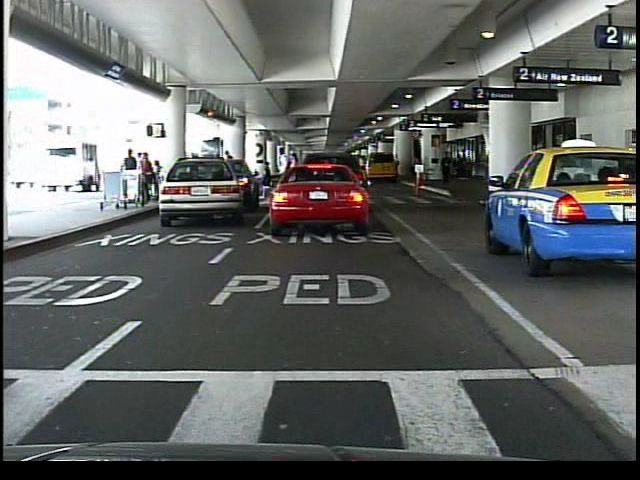person: (277, 146, 292, 205), (223, 149, 239, 201), (122, 147, 137, 201), (261, 160, 277, 205), (353, 150, 368, 194), (440, 151, 453, 187)
